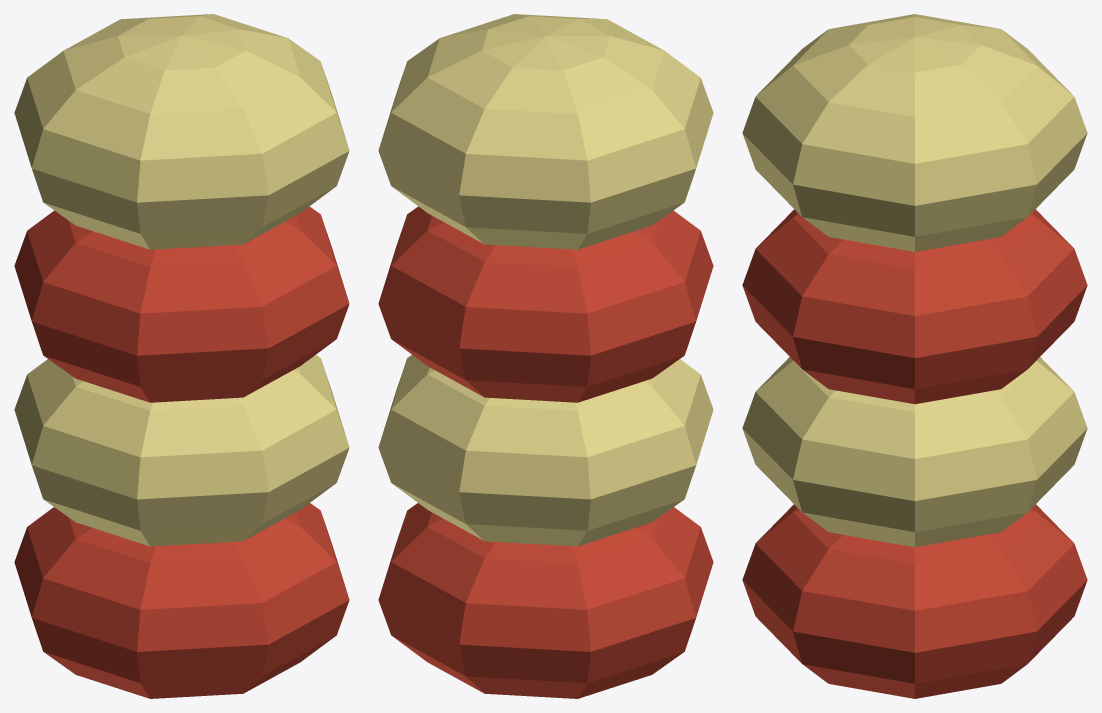
File: picodulce.fbx
The picture shows the model from 3 angles, left to right: view 1: azimuth 30°, elevation 25°; view 2: azimuth 150°, elevation 25°; view 3: azimuth 270°, elevation 25°; orthographic projection.
Parts seen in each view (by area): view 1: pSphere5; view 2: pSphere5; view 3: pSphere5.
Boxes of the visible parts, x1,y1,x2,y2 form: pSphere5: (14,14,349,698); pSphere5: (378,14,713,698); pSphere5: (742,14,1087,698).
Size of the model in its own units: 2 by 4.08 by 2.
